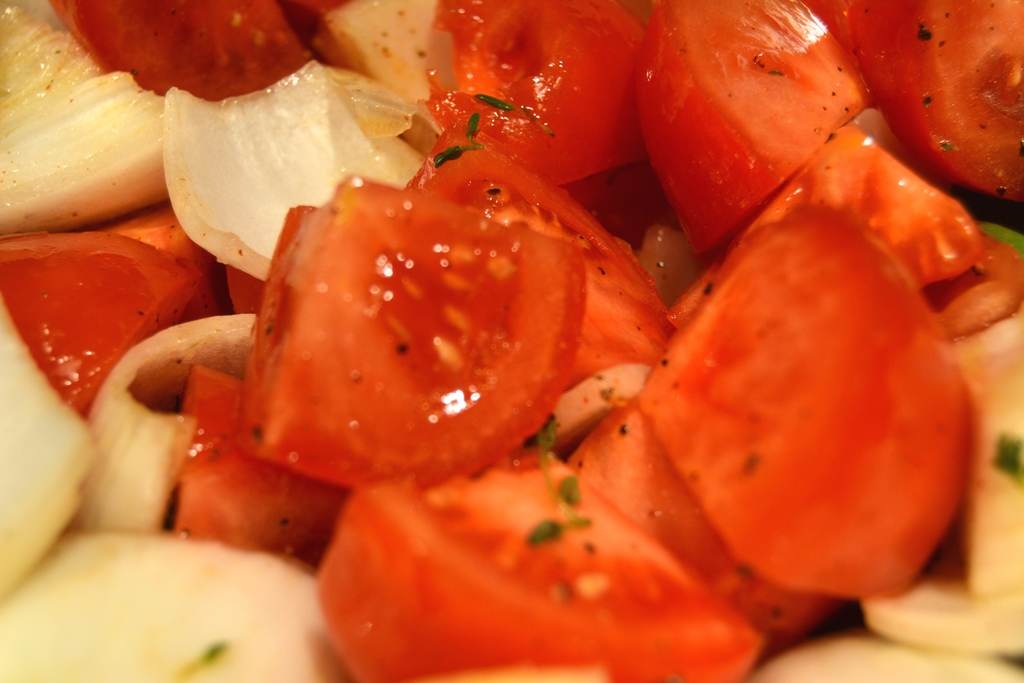Tomato: (632, 192, 975, 597), (230, 172, 584, 504), (312, 449, 764, 682), (632, 0, 872, 256), (0, 229, 217, 424), (437, 0, 650, 190), (847, 0, 1023, 206), (172, 362, 341, 567), (46, 0, 338, 98)
